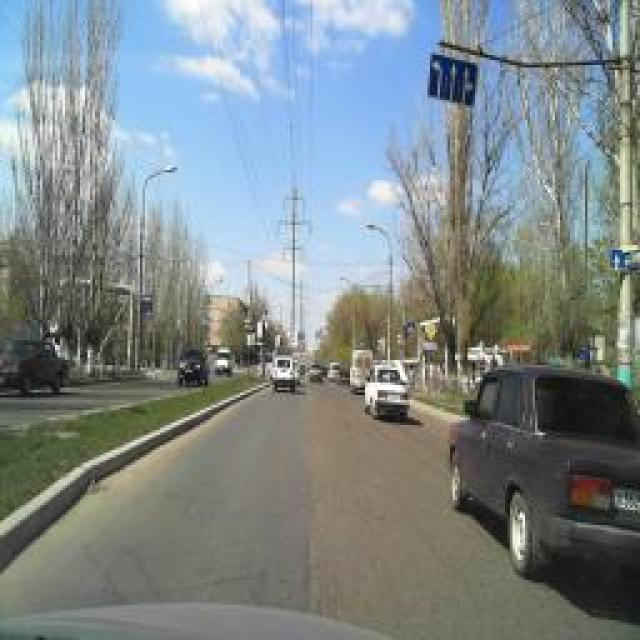sign: (424, 320, 436, 340)
